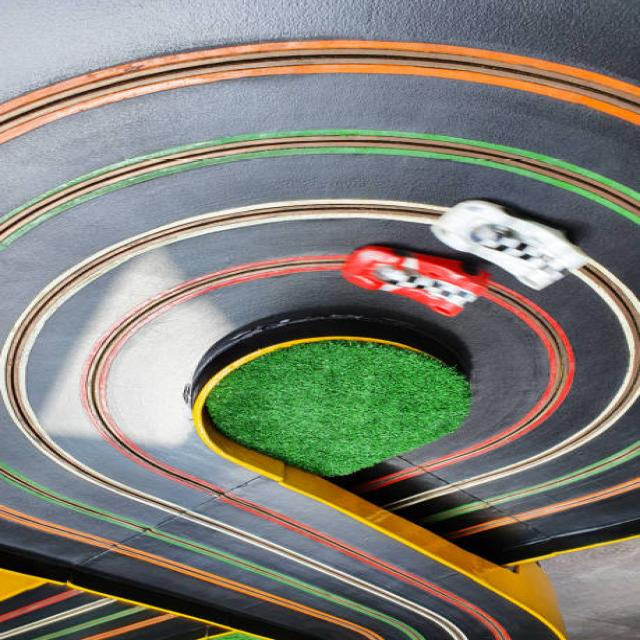Car: (339, 246, 491, 319)
